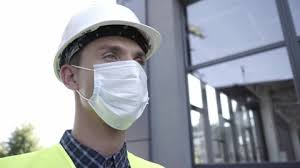Helmet: (49, 7, 156, 55)
Mask: (73, 66, 156, 128)
